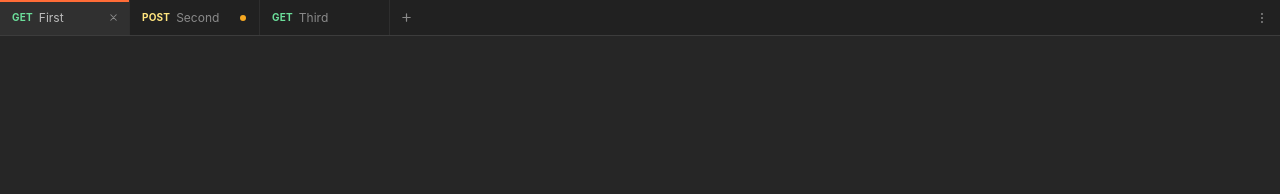
Test: TabStrip › offers the editor close actions on right click
Right-click the text "First" at (51, 17), box left=39, top=10, right=64, bottom=25
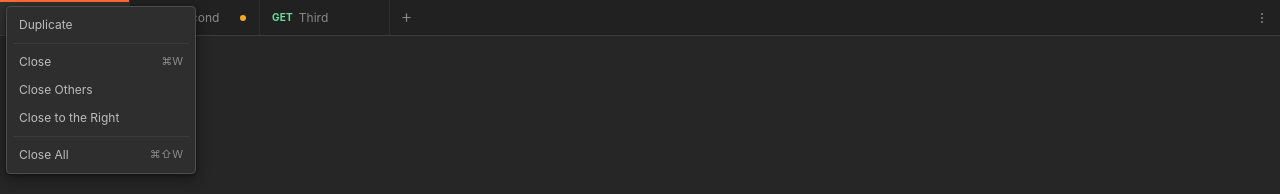
Expected: the menu named "Tab actions" shows "Close", left=11, top=48, right=191, bottom=76
Expected: the menu named "Tab actions" shows "Close Others", left=11, top=76, right=191, bottom=104
Expected: the menu named "Tab actions" shows "Close to the Right", left=11, top=104, right=191, bottom=132
